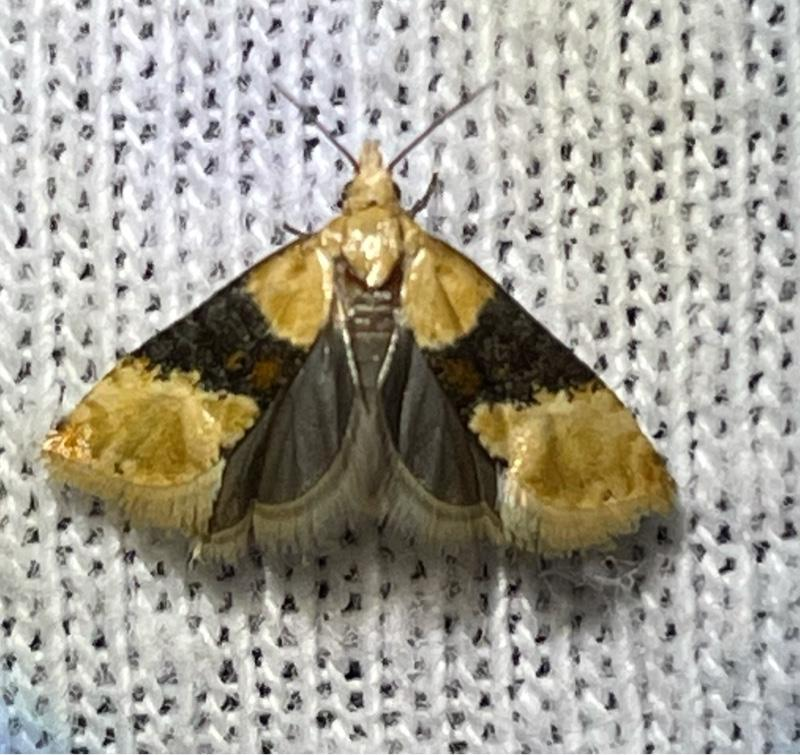Eupoecilia Ambiguella: (38, 73, 682, 572)
